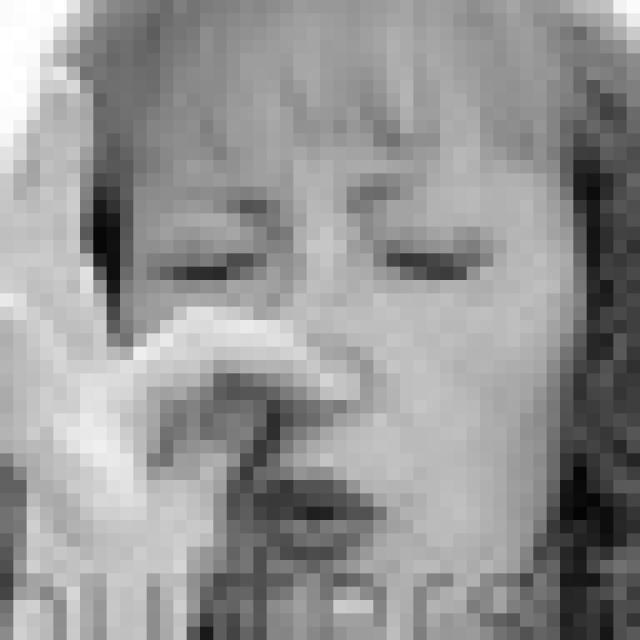disgust: (141, 162, 505, 640)
